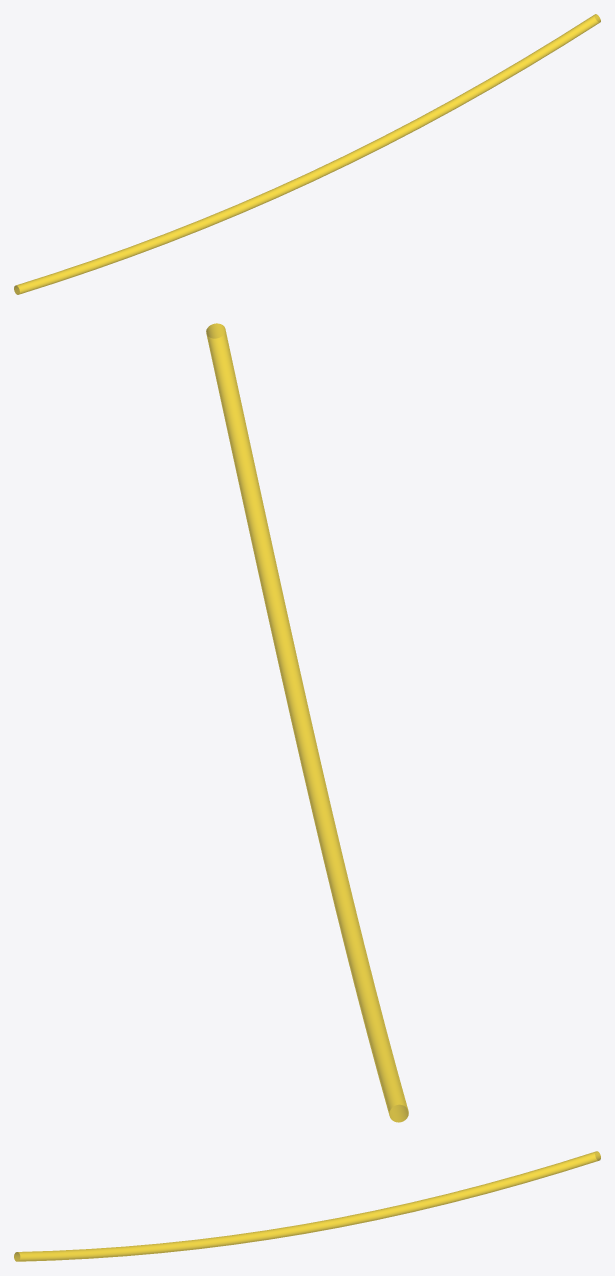
Rendered from Event_100608114_track_31.fbx.
3 renders of one model, top to bottom at view 1: azimuth 90°, elevation 25°; view 2: azimuth 150°, elevation 25°; view 3: azimuth 270°, elevation 25°, orthographic. The views are drawn at different scales.
Parts seen in each view (by area): view 1: Model; view 2: Model; view 3: Model.
Part boxes in pixels (x1,y1,x2,y2): Model: (14, 14, 600, 294); Model: (206, 323, 408, 1122); Model: (14, 1151, 600, 1261).
Size of the model in its own units: 1.82 by 0.4222 by 2.38.
